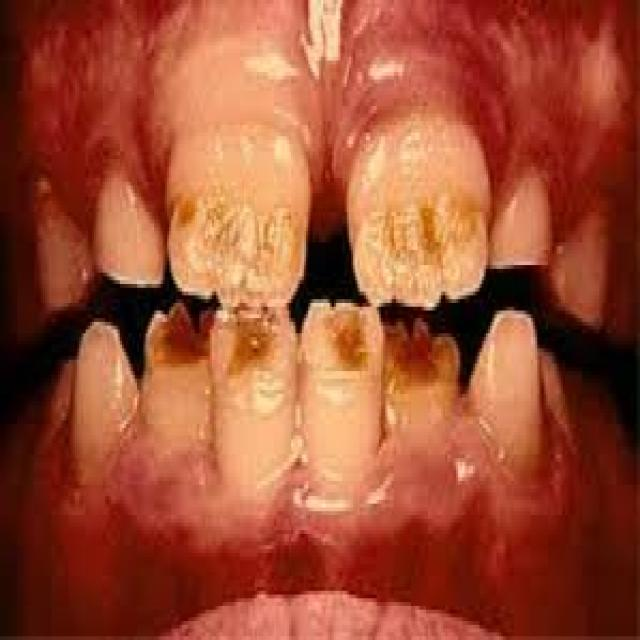Tooth Discoloration: (193, 178, 304, 307), (364, 195, 484, 297), (378, 313, 455, 388), (141, 299, 214, 371), (220, 318, 270, 394), (329, 303, 367, 371), (169, 191, 201, 233)
